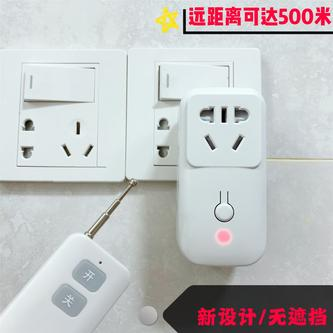switch: (155, 67, 229, 94), (22, 67, 87, 93)
